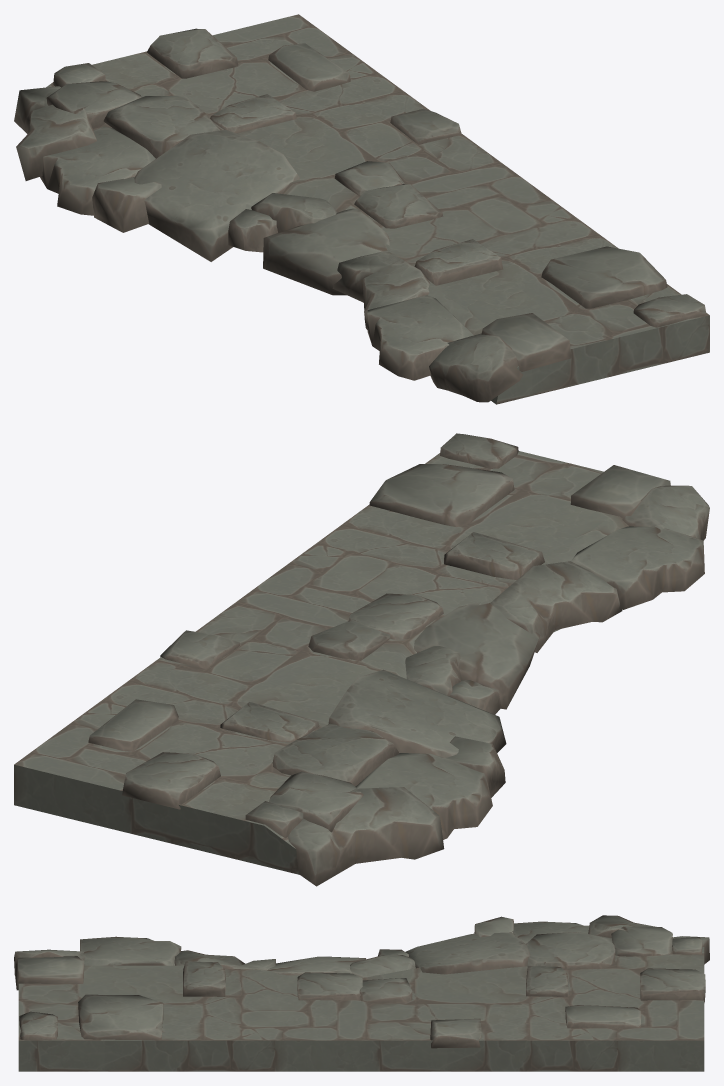
The model's file is SM_FW01_Ruins_Int_Floor_2x4_Brkn_02.fbx.
3 renders of one model, top to bottom at view 1: azimuth 30°, elevation 25°; view 2: azimuth 150°, elevation 25°; view 3: azimuth 270°, elevation 25°, orthographic. The views are drawn at different scales.
Visible parts, largest first — view 1: SM_FW01_Ruins_Int_Floor_2x4_Brkn_02_LOD0, SM_FW01_Ruins_Int_Floor_2x4_Brkn_02; view 2: SM_FW01_Ruins_Int_Floor_2x4_Brkn_02_LOD0, SM_FW01_Ruins_Int_Floor_2x4_Brkn_02; view 3: SM_FW01_Ruins_Int_Floor_2x4_Brkn_02, SM_FW01_Ruins_Int_Floor_2x4_Brkn_02_LOD0.
Part boxes in pixels (x1,y1,x2,y2): SM_FW01_Ruins_Int_Floor_2x4_Brkn_02_LOD0: (14,28,706,402); SM_FW01_Ruins_Int_Floor_2x4_Brkn_02: (46,14,709,404); SM_FW01_Ruins_Int_Floor_2x4_Brkn_02_LOD0: (88,433,709,886); SM_FW01_Ruins_Int_Floor_2x4_Brkn_02: (14,451,628,874); SM_FW01_Ruins_Int_Floor_2x4_Brkn_02: (18,947,704,1071); SM_FW01_Ruins_Int_Floor_2x4_Brkn_02_LOD0: (14,915,709,1048).
Size of what is drawn, in the model's own units: 1.88 by 0.3308 by 4.06.
